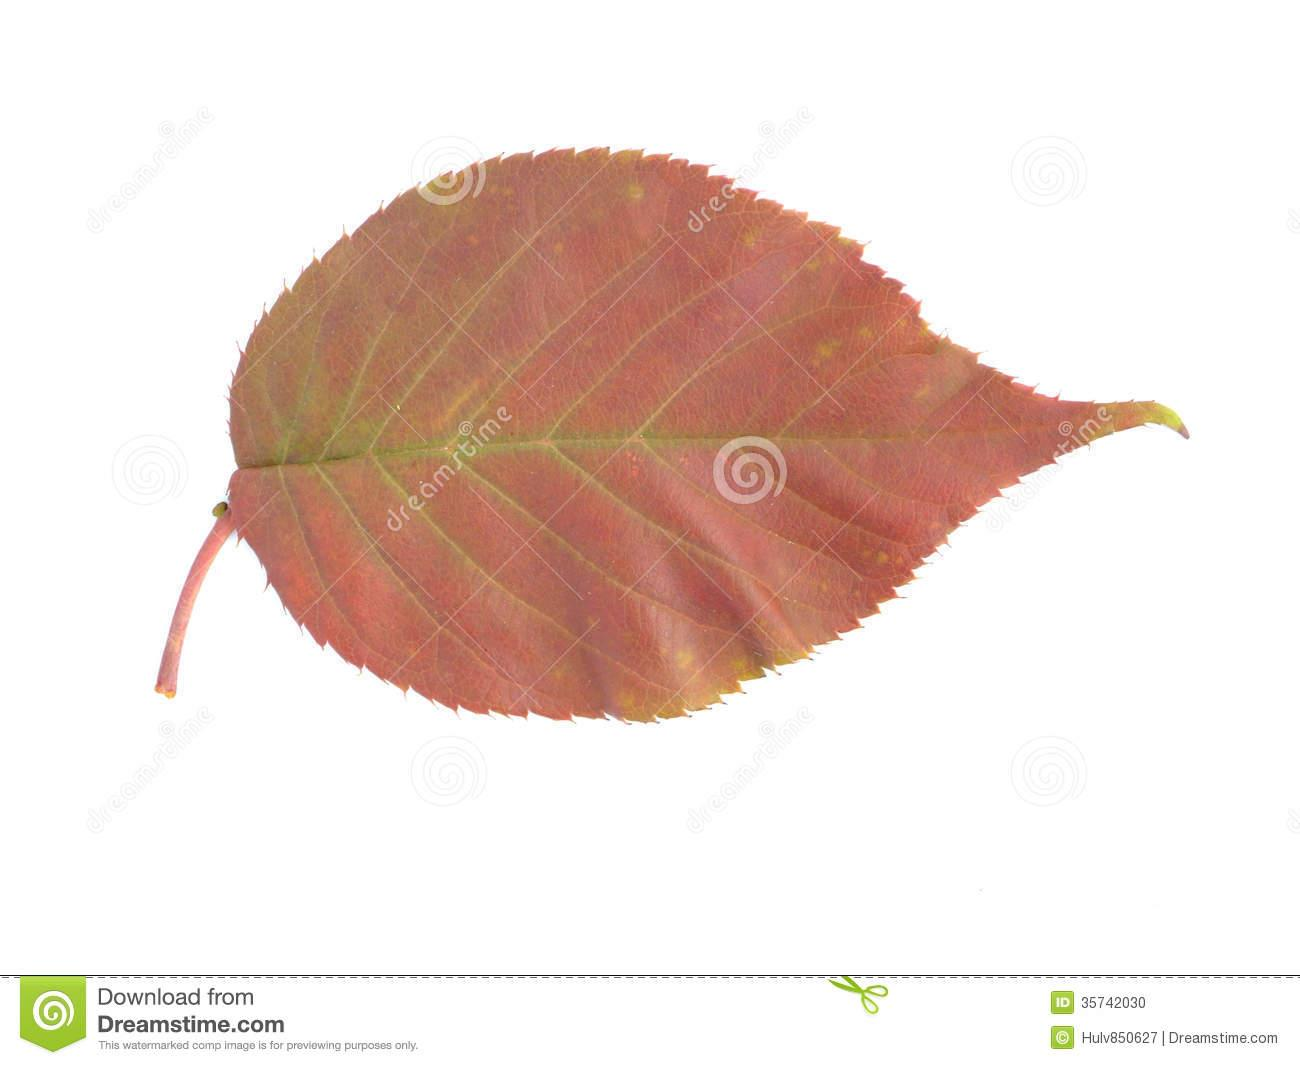Cherry leaf: (205, 132, 1249, 723)
